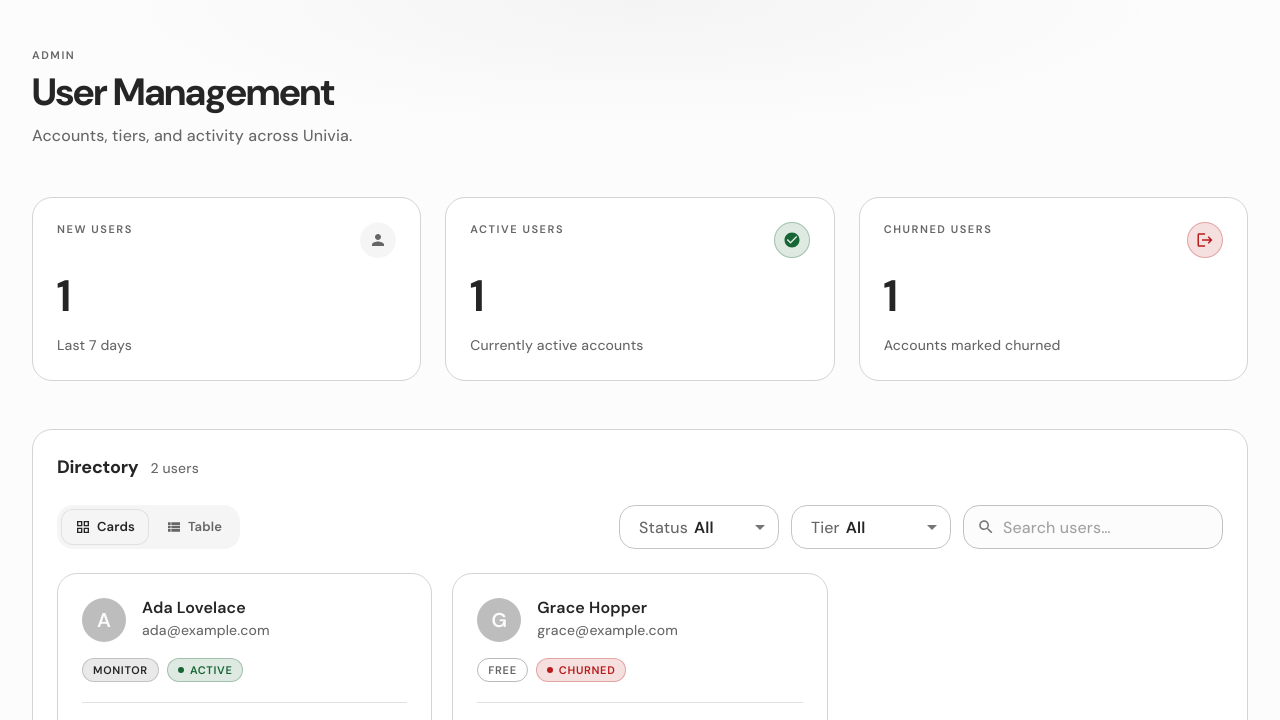
Scenario: UserManagement › writes the status filter to the URL and filters the directory
Expected: the heading "Grace Hopper" is shown, [537,598,647,618]
What coordinates should you click on to do the following:
click the dropdown labelled "Status All"
I would click on:
 (676, 527)
Its box is [639,517,714,538].
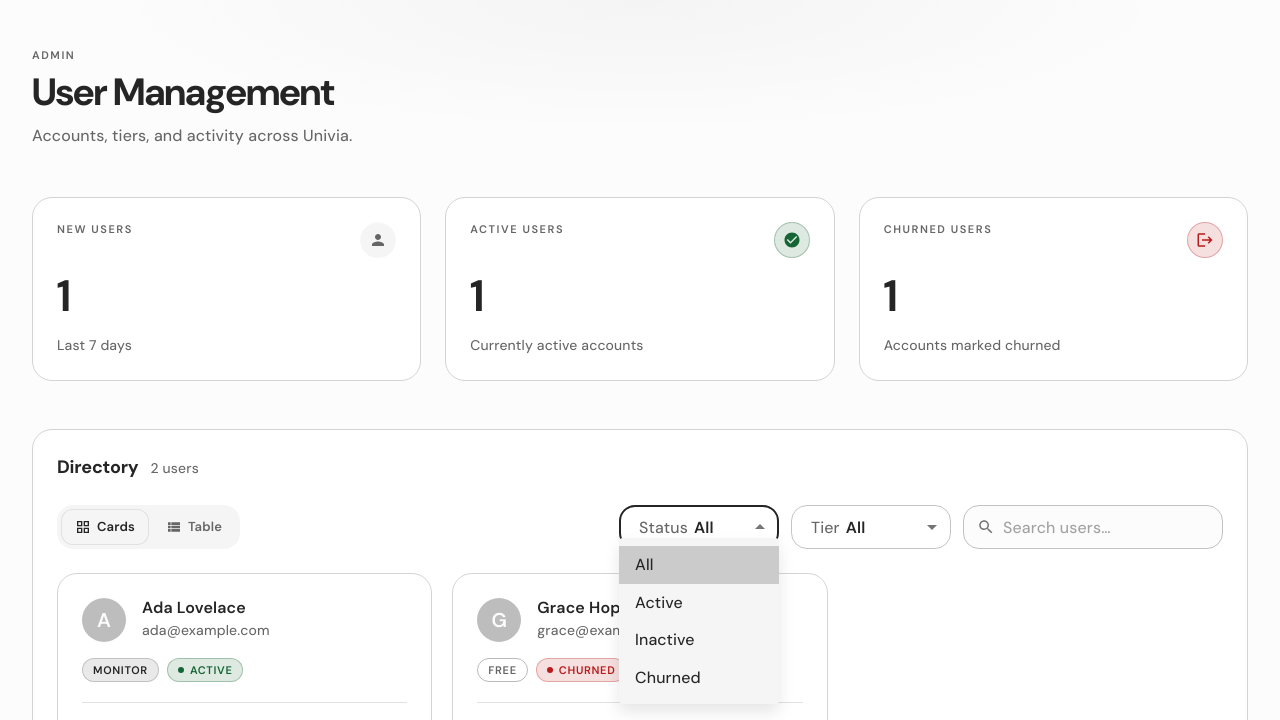
What coordinates should you click on to do the following:
click the option "Churned"
I would click on:
 (668, 677)
Its box is [635,667,701,688].
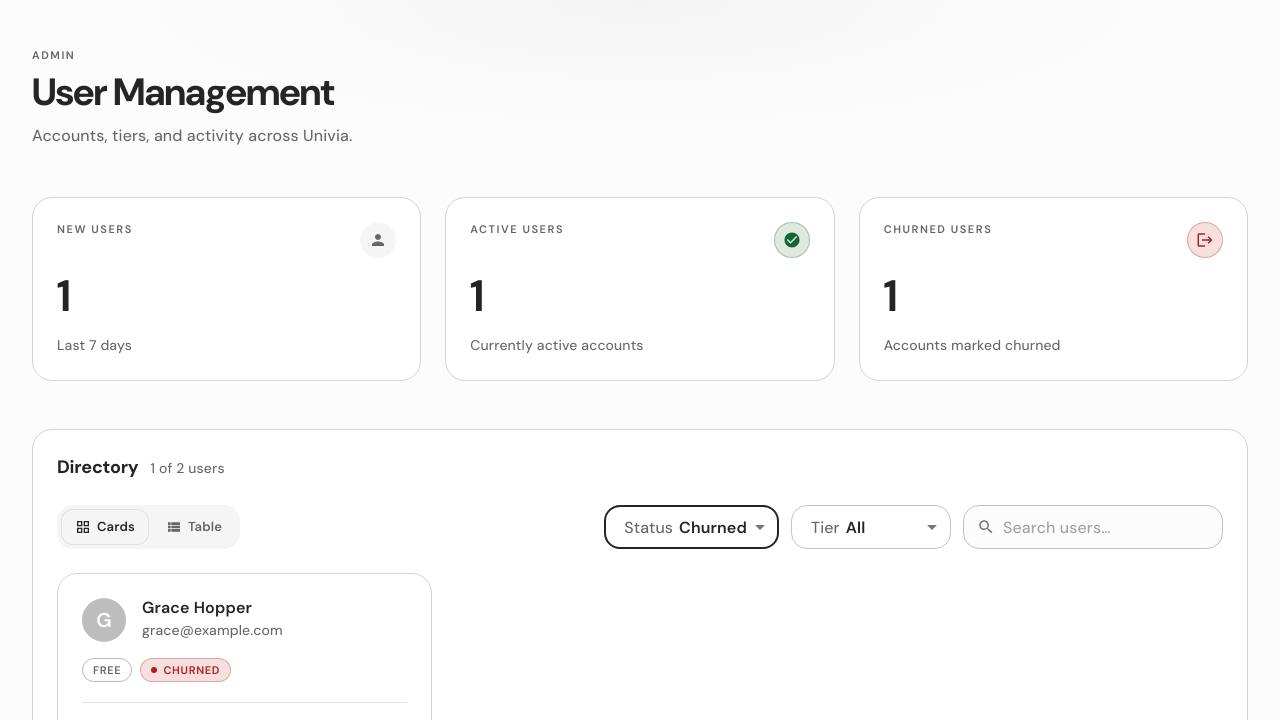
Expected: the heading "Grace Hopper" is shown, [142,598,252,618]
Expected: the heading "Ada Lovelace" is gone
